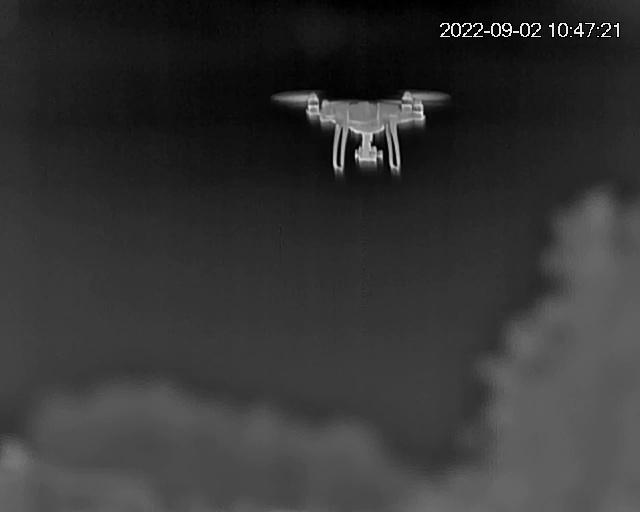DJI-Phantom: (269, 89, 458, 177)
